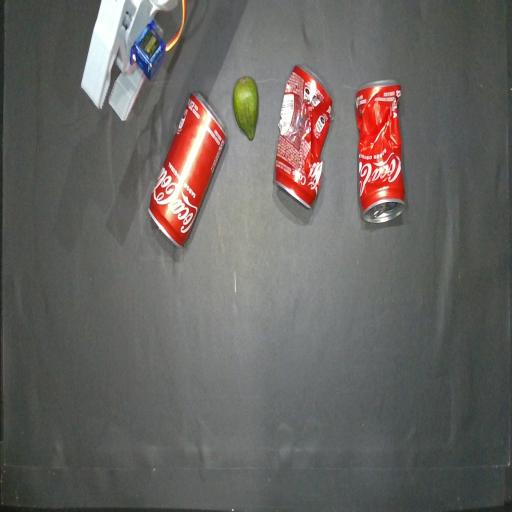higo: (233, 77, 258, 139)
lata: (149, 93, 226, 246)
lata_defectuoso: (275, 65, 332, 208), (355, 81, 405, 222)
